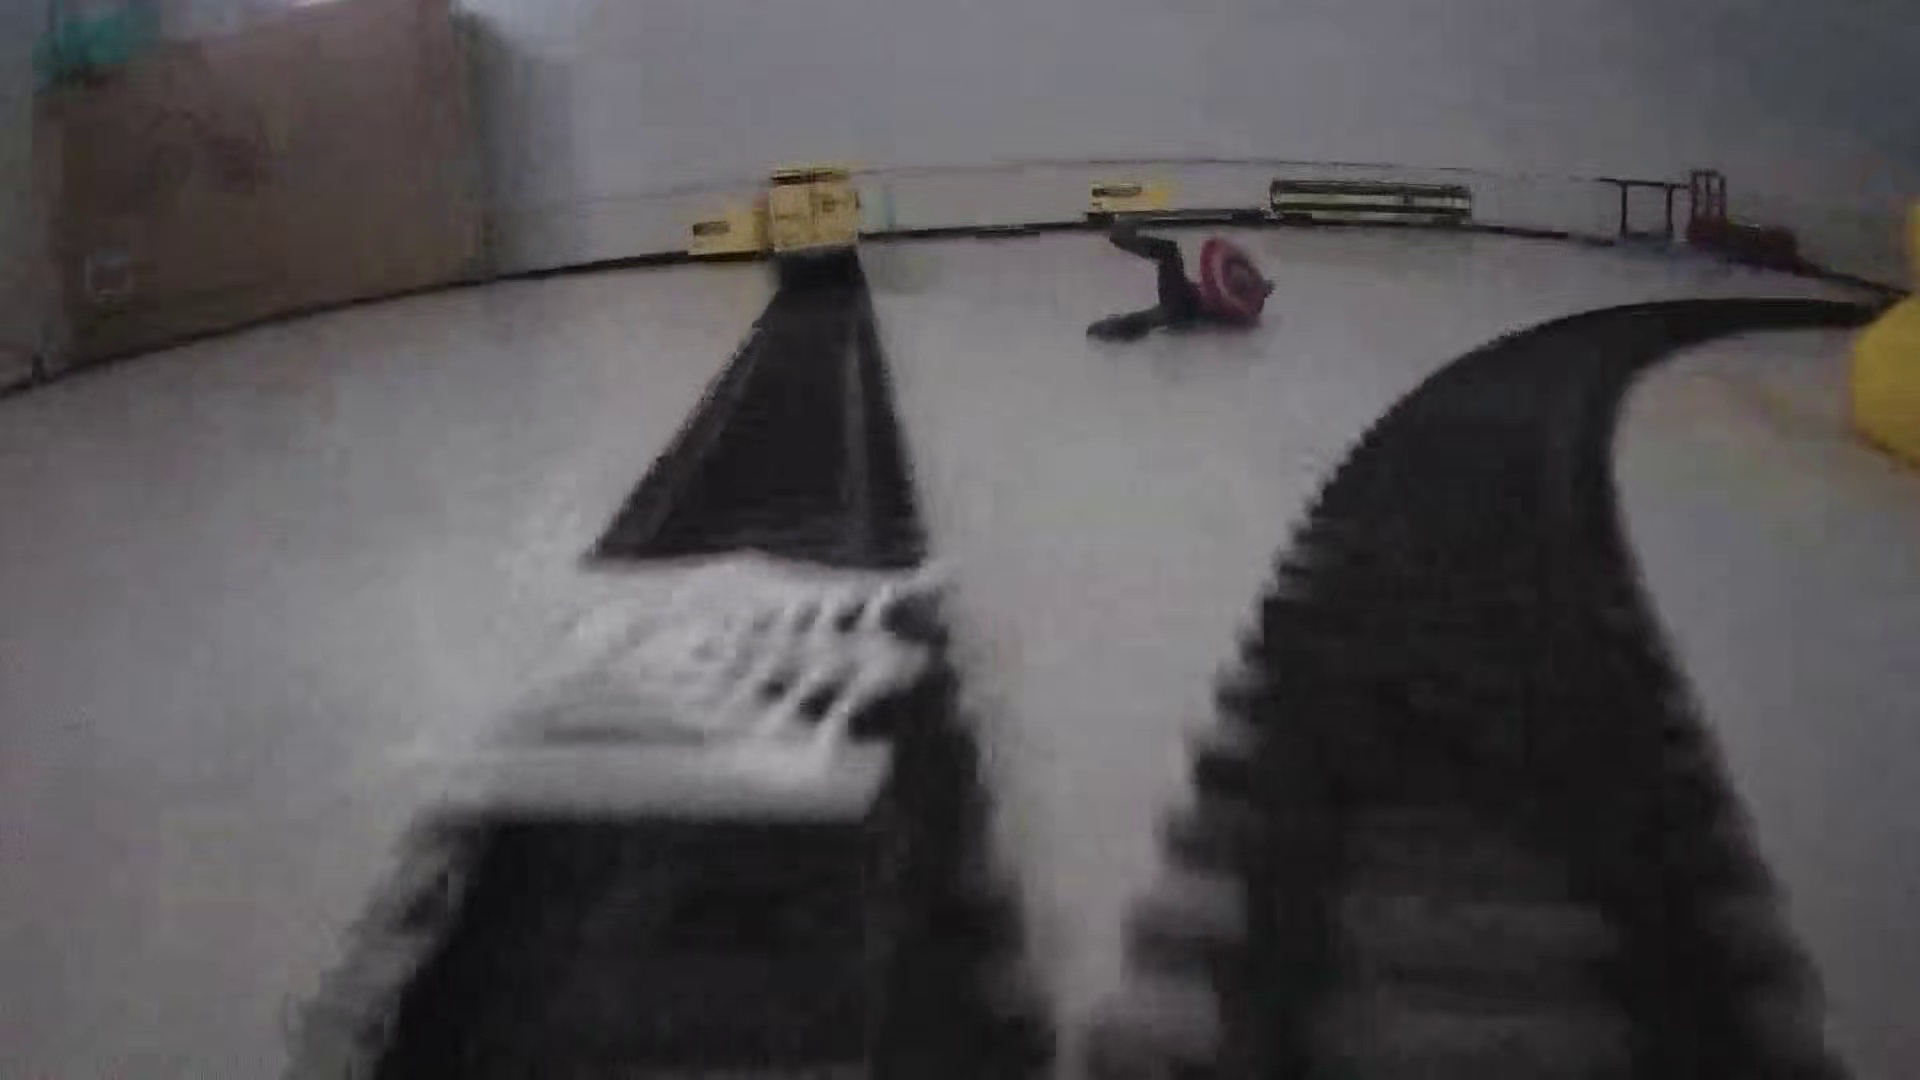people: (1083, 209, 1279, 344)
web: (399, 535, 953, 838)
